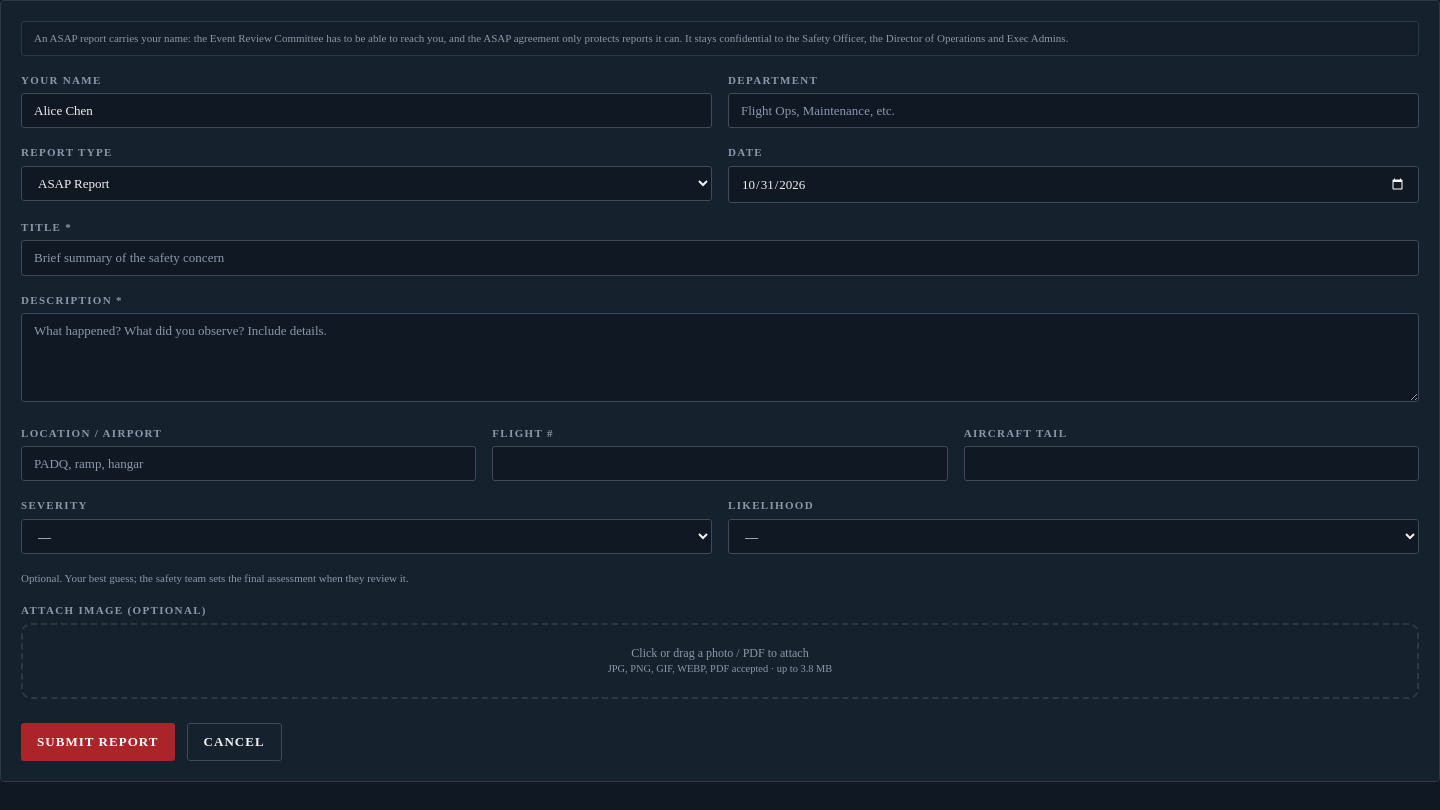
Test case: filing an ASAP report (#59) › brings the anonymous option back for every other type
This screenshot has width=1440, height=810.
Select "Near Miss" in the dropdown labelled "Report Type" at (366, 183), box [21,166,712,201]
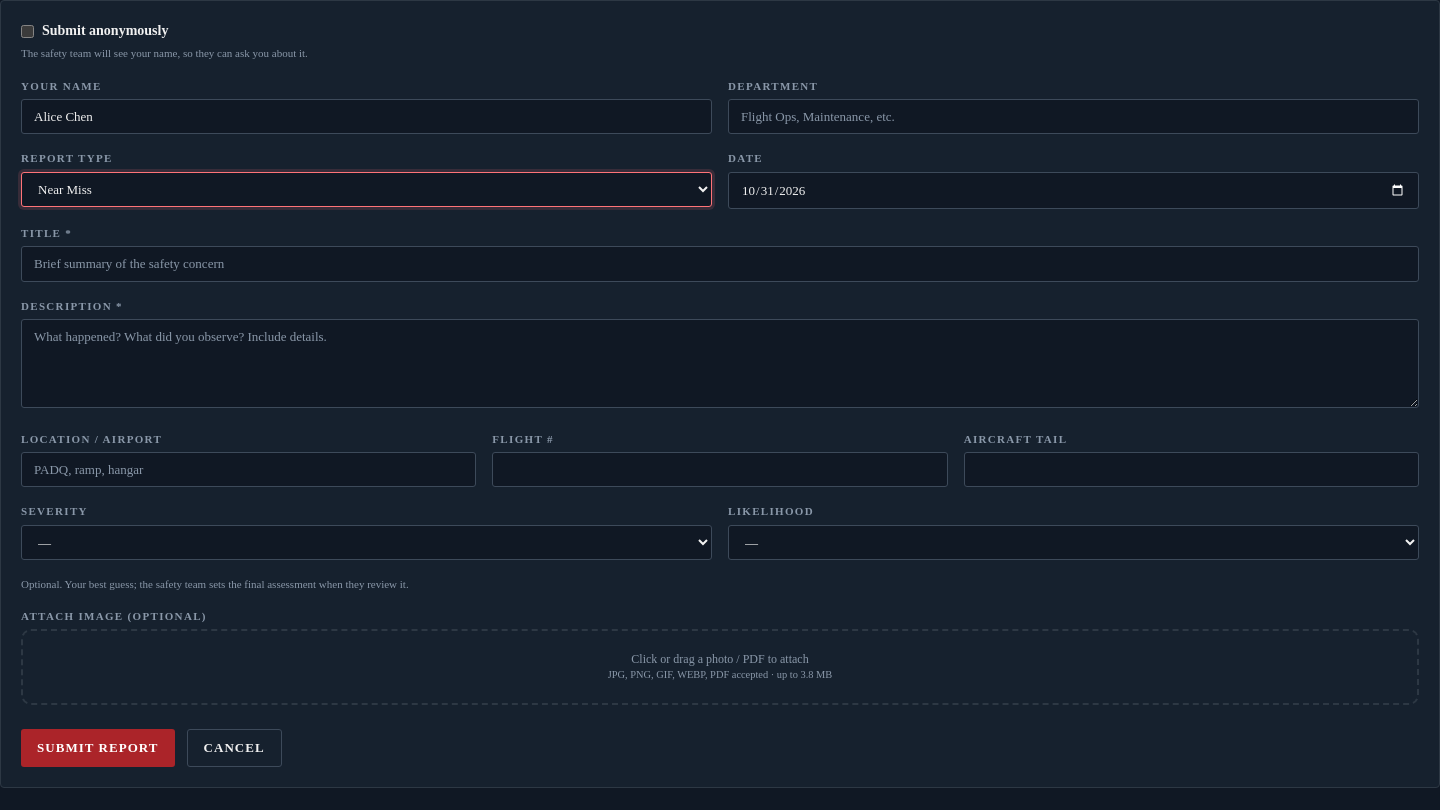
Check: the checkbox labelled "Submit anonymously" is shown, box [21,24,34,38]
